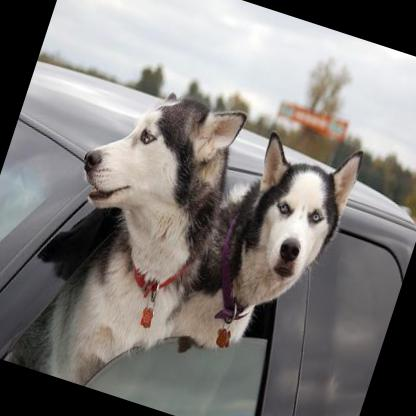Eskimo_dog: (2, 59, 264, 411), (169, 110, 366, 376)
